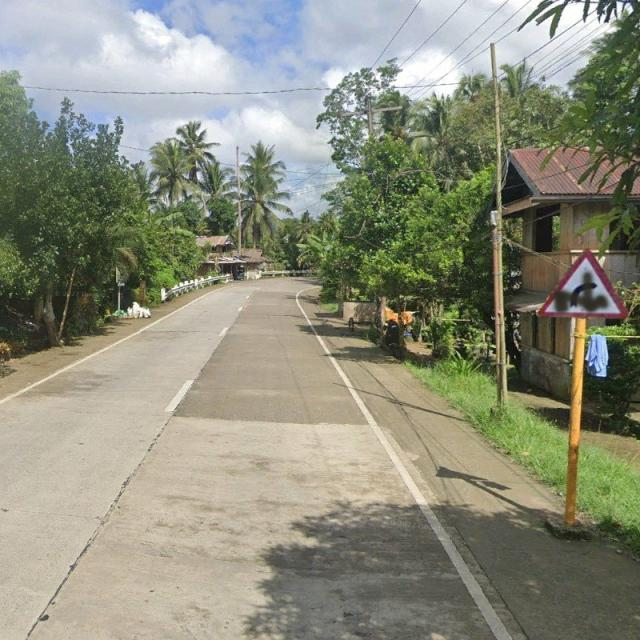warn_right_curve: (537, 248, 628, 319)
